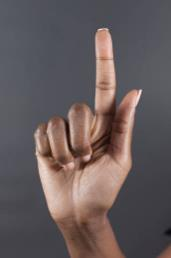up: (33, 26, 144, 225)
